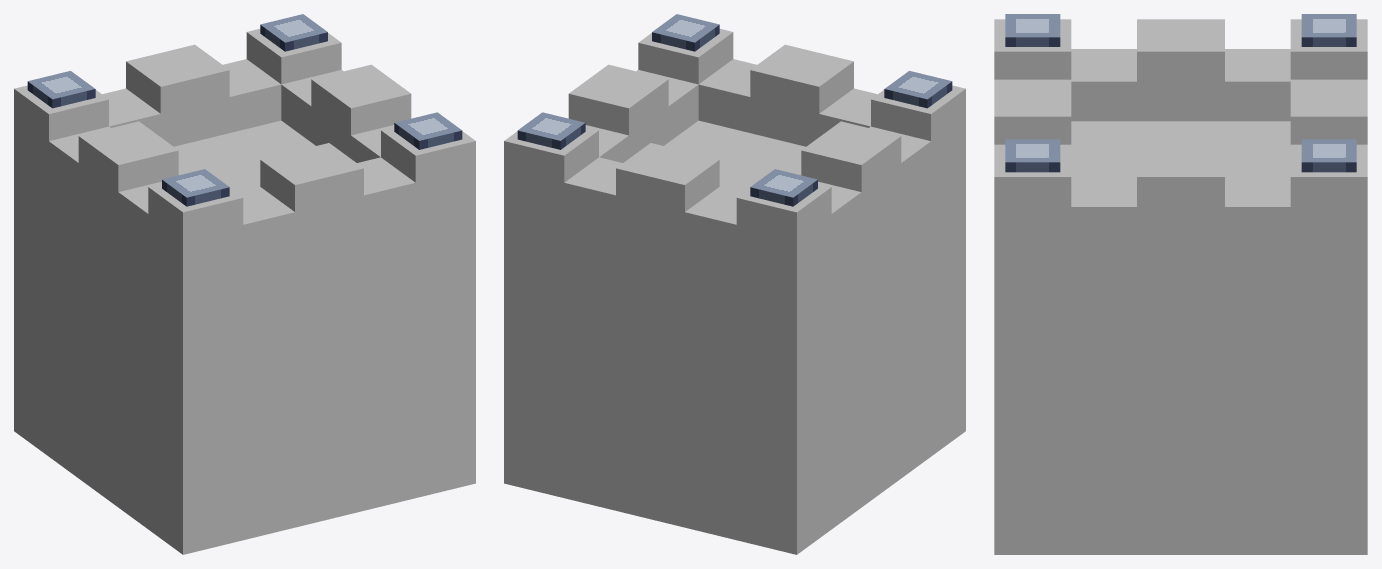
Rendered from fortModel.dae.
The picture shows the model from 3 angles, left to right: view 1: azimuth 30°, elevation 25°; view 2: azimuth 150°, elevation 25°; view 3: azimuth 270°, elevation 25°; orthographic projection. The views are drawn at different scales.
Parts seen in each view (by area): view 1: cuboid (×5); view 2: cuboid (×5); view 3: cuboid (×5).
Boxes of the visible parts, x1=… form: cuboid (×5): x1=14, y1=14, x2=475, y2=554; cuboid (×5): x1=504, y1=14, x2=965, y2=554; cuboid (×5): x1=994, y1=14, x2=1367, y2=554.
Bounding box in the file's own units: 2.12 × 2.44 × 2.12.
